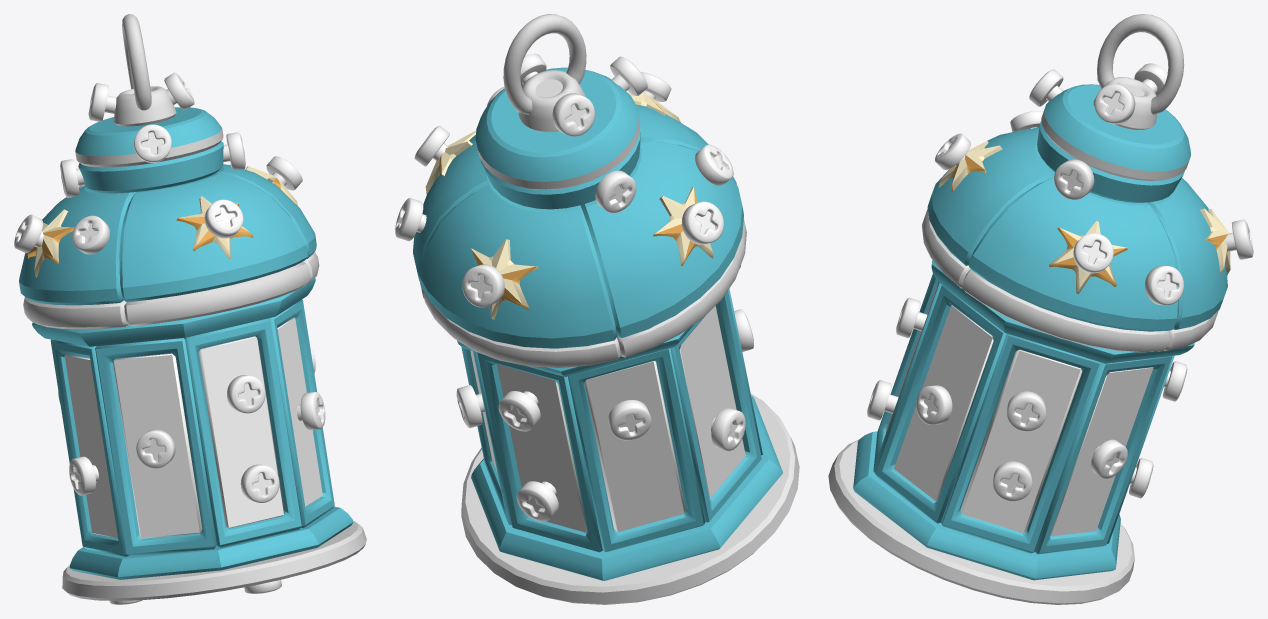
Rendered from HandLamp.fbx.
The picture shows the model from 3 angles, left to right: view 1: azimuth 30°, elevation 25°; view 2: azimuth 150°, elevation 25°; view 3: azimuth 270°, elevation 25°; orthographic projection. The views are drawn at different scales.
Parts seen in each view (by area): view 1: HandLamp_024, HandLamp_014, HandLamp_015, Screw (×14), HandLamp_023, HandLamp_013, HandLamp_025, HandLamp_016, HandLamp_002, HandLamp_009, HandLamp_003, HandLamp_007 (+2 smaller); view 2: HandLamp_008, HandLamp_023, HandLamp_012, Screw (×15), HandLamp_025, HandLamp_011, HandLamp_009, HandLamp_013, HandLamp_002, HandLamp_010, HandLamp_006, HandLamp_007 (+3 smaller); view 3: HandLamp_006, HandLamp_005, Screw (×16), HandLamp_016, HandLamp_001, HandLamp_024, HandLamp_025, HandLamp_009, HandLamp_002, HandLamp_008, HandLamp_010, HandLamp_003 (+2 smaller).
Boxes of the visible parts, bbox=[...] form: HandLamp_024: bbox=[119, 173, 310, 326]; HandLamp_014: bbox=[95, 338, 216, 556]; HandLamp_015: bbox=[184, 318, 301, 547]; Screw (×14): bbox=[14, 72, 325, 502]; HandLamp_023: bbox=[19, 186, 136, 329]; HandLamp_013: bbox=[51, 340, 129, 556]; HandLamp_025: bbox=[62, 521, 366, 600]; HandLamp_016: bbox=[268, 299, 334, 527]; HandLamp_002: bbox=[69, 506, 353, 579]; HandLamp_009: bbox=[75, 107, 223, 167]; HandLamp_003: bbox=[32, 278, 315, 346]; HandLamp_007: bbox=[78, 141, 223, 193]; HandLamp_008: bbox=[418, 183, 621, 367]; HandLamp_023: bbox=[580, 142, 746, 357]; HandLamp_012: bbox=[568, 348, 705, 552]; Screw (×15): bbox=[395, 56, 753, 521]; HandLamp_025: bbox=[461, 393, 799, 604]; HandLamp_011: bbox=[477, 352, 602, 552]; HandLamp_009: bbox=[475, 67, 640, 189]; HandLamp_013: bbox=[670, 291, 761, 522]; HandLamp_002: bbox=[471, 395, 782, 580]; HandLamp_010: bbox=[503, 14, 586, 132]; HandLamp_006: bbox=[413, 130, 491, 298]; HandLamp_007: bbox=[480, 127, 640, 209]; HandLamp_006: bbox=[963, 177, 1179, 352]; HandLamp_005: bbox=[940, 333, 1101, 553]; Screw (×16): bbox=[867, 63, 1253, 501]; HandLamp_016: bbox=[875, 285, 1006, 523]; HandLamp_001: bbox=[1035, 356, 1172, 554]; HandLamp_024: bbox=[921, 128, 1054, 288]; HandLamp_025: bbox=[828, 439, 1134, 604]; HandLamp_009: bbox=[1041, 84, 1190, 180]; HandLamp_002: bbox=[853, 431, 1120, 580]; HandLamp_008: bbox=[1147, 178, 1230, 350]; HandLamp_010: bbox=[1093, 14, 1184, 129]; HandLamp_003: bbox=[931, 260, 1194, 363].
Size of the model in its own units: 5.94 by 10.91 by 7.61.
Materials: 5 (3 with a texture image).
